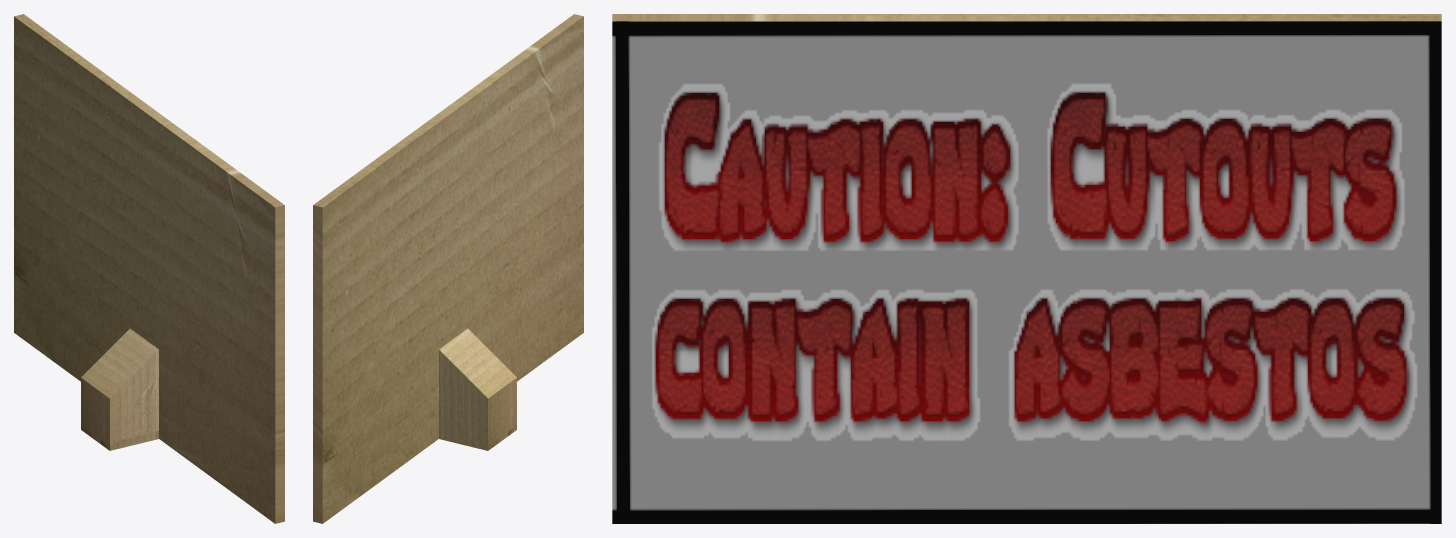
The model's file is asbestos.fbx.
3 views of the same model, side by side, from view 1: azimuth 30°, elevation 25°; view 2: azimuth 150°, elevation 25°; view 3: azimuth 270°, elevation 25° (orthographic). The views are drawn at different scales.
Parts seen in each view (by area): view 1: pCube3; view 2: pCube3; view 3: pCube3.
Boxes of the visible parts, left/top/right/bottom form: pCube3: left=14, top=14, right=284, bottom=523; pCube3: left=313, top=14, right=583, bottom=523; pCube3: left=612, top=14, right=1441, bottom=523.
Bounding box in the file's own units: 0.8198 × 4.21 × 6.3.
